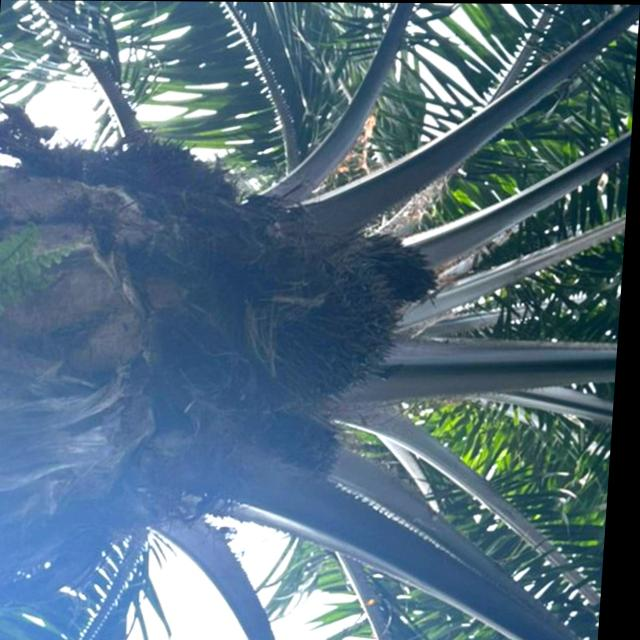almost: (236, 239, 417, 405)
